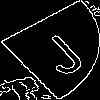J: (25, 25, 92, 78)
